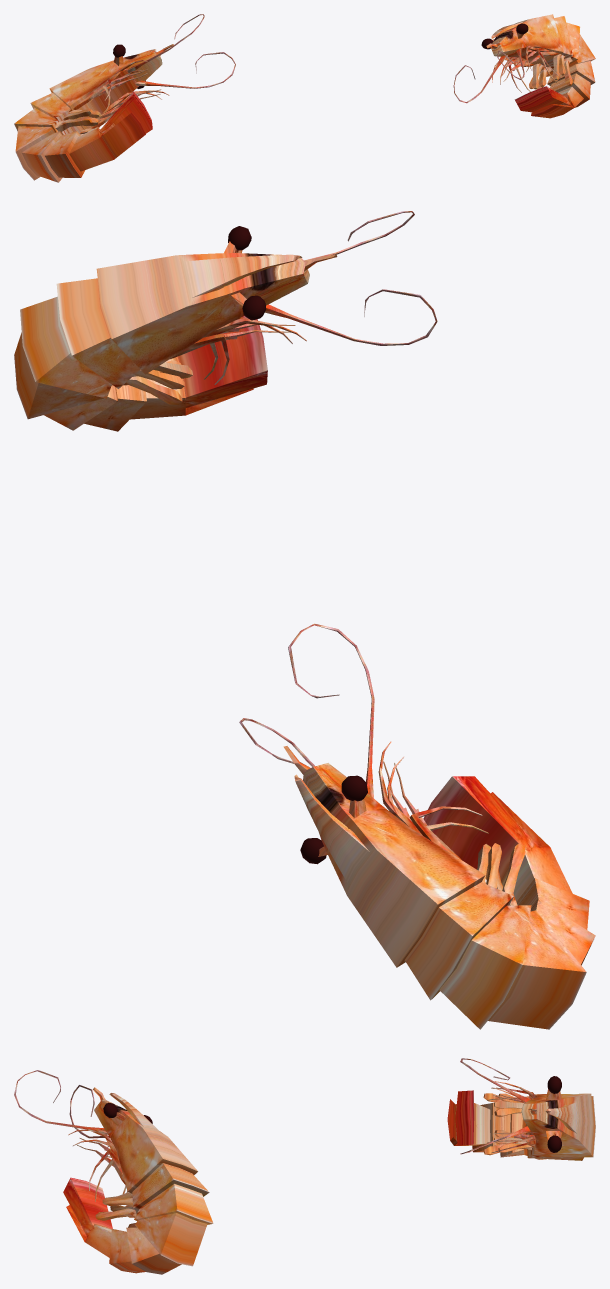
Rendered from Shrimp.glb.
3 views of the same model, one above another, from view 1: azimuth 30°, elevation 25°; view 2: azimuth 150°, elevation 25°; view 3: azimuth 270°, elevation 25° (orthographic). The views are drawn at different scales.
Parts seen in each view (by area): view 1: shrimp2.001, shrimp3.001; view 2: shrimp2.001, shrimp3.001; view 3: shrimp3.001, shrimp2.001.
Part boxes in pixels (bbox=[...]): shrimp2.001: bbox=[14, 14, 235, 182]; shrimp3.001: bbox=[453, 14, 595, 118]; shrimp2.001: bbox=[239, 623, 595, 1029]; shrimp3.001: bbox=[14, 211, 437, 431]; shrimp3.001: bbox=[14, 1070, 213, 1274]; shrimp2.001: bbox=[447, 1058, 595, 1160].
Bounding box in the file's own units: 0.0586 × 0.026 × 0.053.
2 materials, 1 textured.
